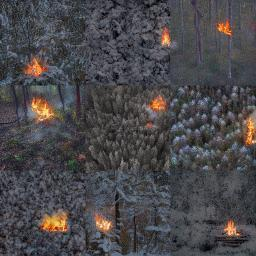Small fire: (37, 207, 68, 230), (241, 107, 256, 149), (30, 93, 53, 120), (24, 56, 46, 77), (93, 210, 113, 232), (158, 23, 173, 51), (147, 93, 168, 112), (214, 17, 233, 37), (225, 223, 243, 240)
